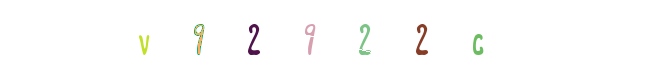2: (213, 0, 293, 80), (292, 0, 372, 80), (356, 0, 436, 80)
9: (159, 0, 239, 80), (278, 0, 358, 80)
C: (362, 0, 442, 80)
V: (130, 0, 210, 80)
